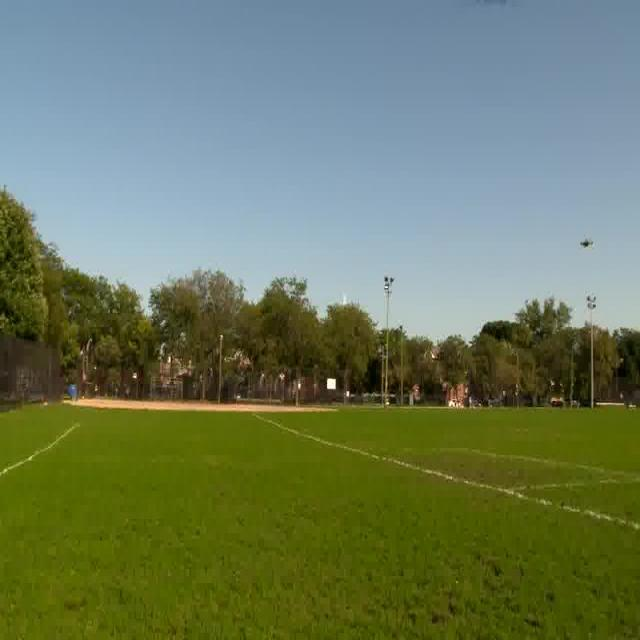drone: (574, 230, 600, 260)
